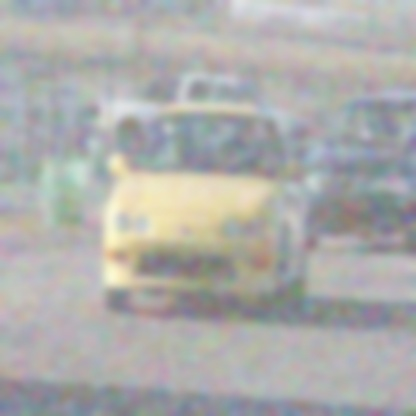Vehicle: (102, 105, 309, 314)
